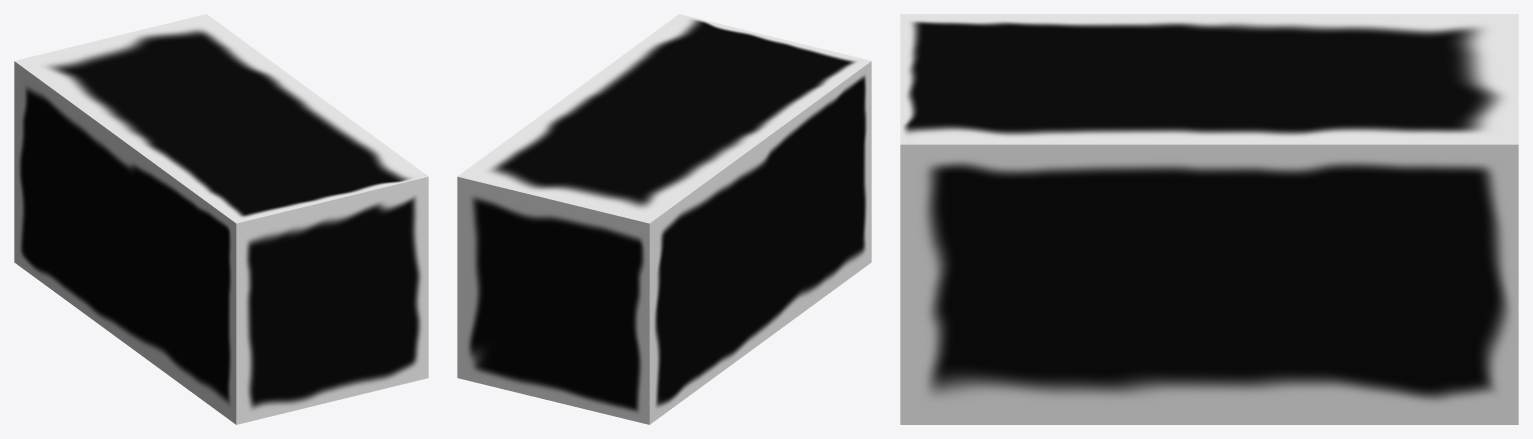
File: castlebrick.fbx_Scene.fbx
3 views of the same model, side by side, from view 1: azimuth 30°, elevation 25°; view 2: azimuth 150°, elevation 25°; view 3: azimuth 270°, elevation 25° (orthographic). The views are drawn at different scales.
Visible parts, largest first — view 1: Cube.001, Cube.001_cell.001, Cube.001_cell.004, Cube.001_cell.002, Cube.001_cell.005, Cube.001_cell.003; view 2: Cube.001, Cube.001_cell.004, Cube.001_cell.001, Cube.001_cell.003, Cube.001_cell, Cube.001_cell.005; view 3: Cube.001, Cube.001_cell.002, Cube.001_cell.003, Cube.001_cell.004, Cube.001_cell.
Part boxes in pixels (<box>): Cube.001: <box>14,14,428,423</box>; Cube.001_cell.001: <box>125,171,332,424</box>; Cube.001_cell.004: <box>14,37,248,242</box>; Cube.001_cell.002: <box>332,176,428,401</box>; Cube.001_cell.005: <box>14,162,125,342</box>; Cube.001_cell.003: <box>111,14,248,138</box>; Cube.001: <box>457,14,871,424</box>; Cube.001_cell.004: <box>554,98,787,265</box>; Cube.001_cell.001: <box>779,83,871,296</box>; Cube.001_cell.003: <box>458,98,691,199</box>; Cube.001_cell: <box>457,290,553,400</box>; Cube.001_cell.005: <box>553,301,713,418</box>; Cube.001: <box>900,14,1518,424</box>; Cube.001_cell.002: <box>900,144,1209,424</box>; Cube.001_cell.003: <box>1132,79,1518,284</box>; Cube.001_cell.004: <box>1132,14,1518,79</box>; Cube.001_cell: <box>1209,285,1518,424</box>.
Bounding box in the file's own units: 198 × 198 × 396.
